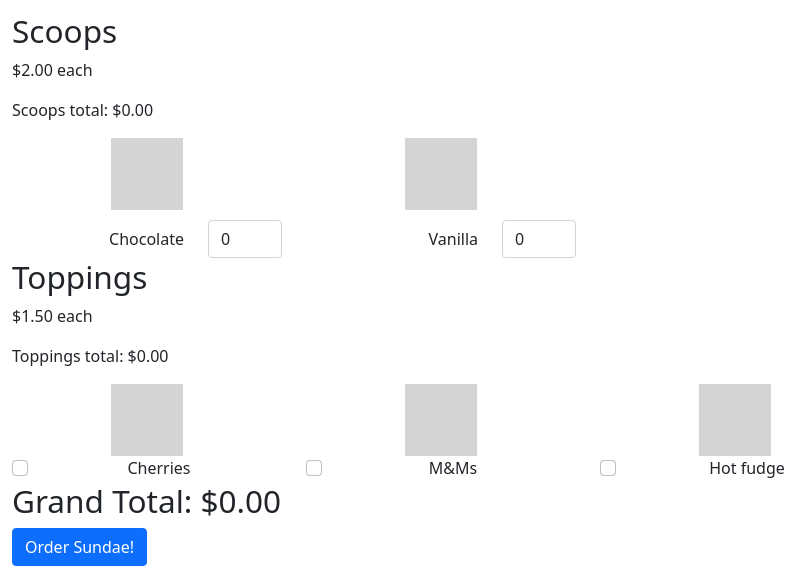
Grand Total › Grand total increases when adding scoop
The width and height of the screenshot is (801, 583).
Replace the text in the number field labelled "Vanilla" with "1". click: point(539, 239)
box: top-left (502, 220), bottom-right (576, 258)
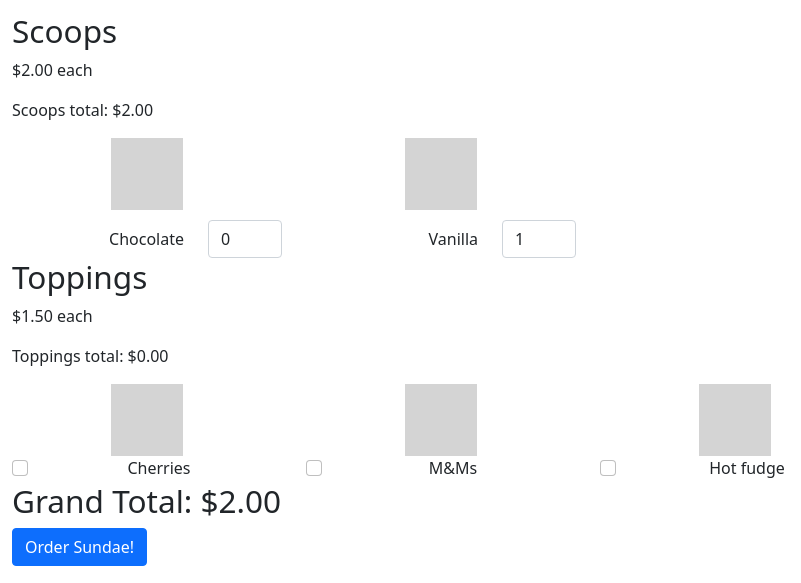
Result: the heading "Grand Total: $2.00" is shown at top-left (12, 479), bottom-right (281, 522)
